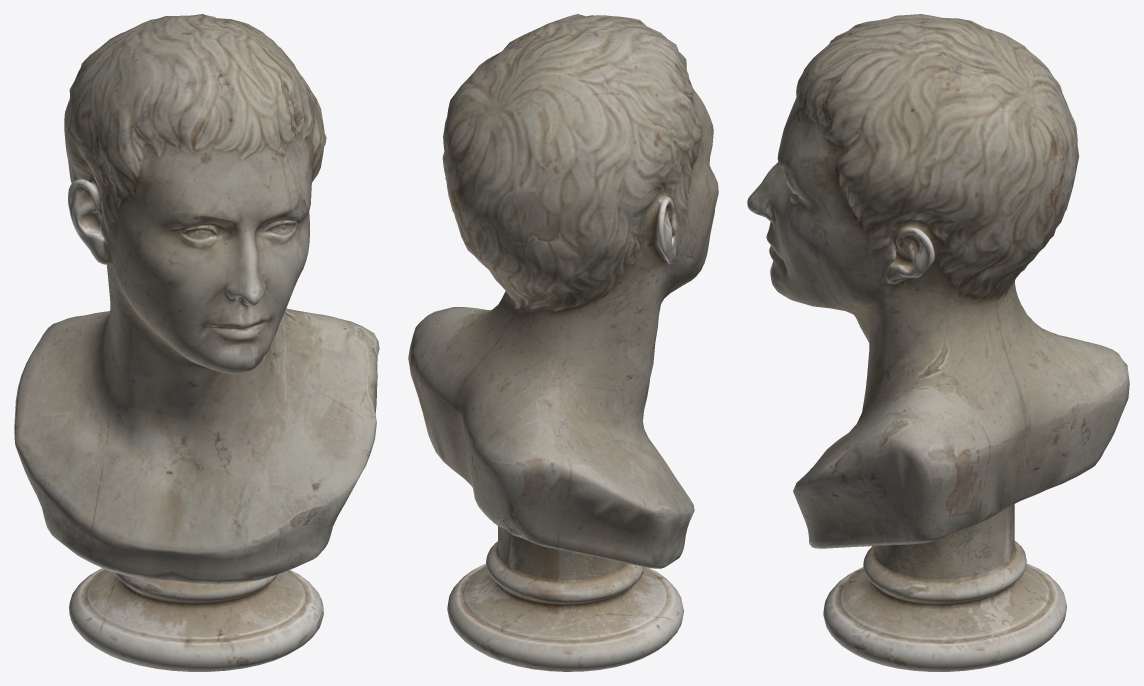
Rendered from marble_bust_01.glb.
3 views of the same model, side by side, from view 1: azimuth 30°, elevation 25°; view 2: azimuth 150°, elevation 25°; view 3: azimuth 270°, elevation 25° (orthographic). The views are drawn at different scales.
Parts seen in each view (by area): view 1: marble_bust_01; view 2: marble_bust_01; view 3: marble_bust_01.
Part boxes in pixels (x1,y1,x2,y2): marble_bust_01: (14,14,379,671); marble_bust_01: (408,14,718,671); marble_bust_01: (747,14,1129,671).
Size of the model in its own units: 0.2718 by 0.5148 by 0.2997.
Materials: 1 (1 with a texture image).
